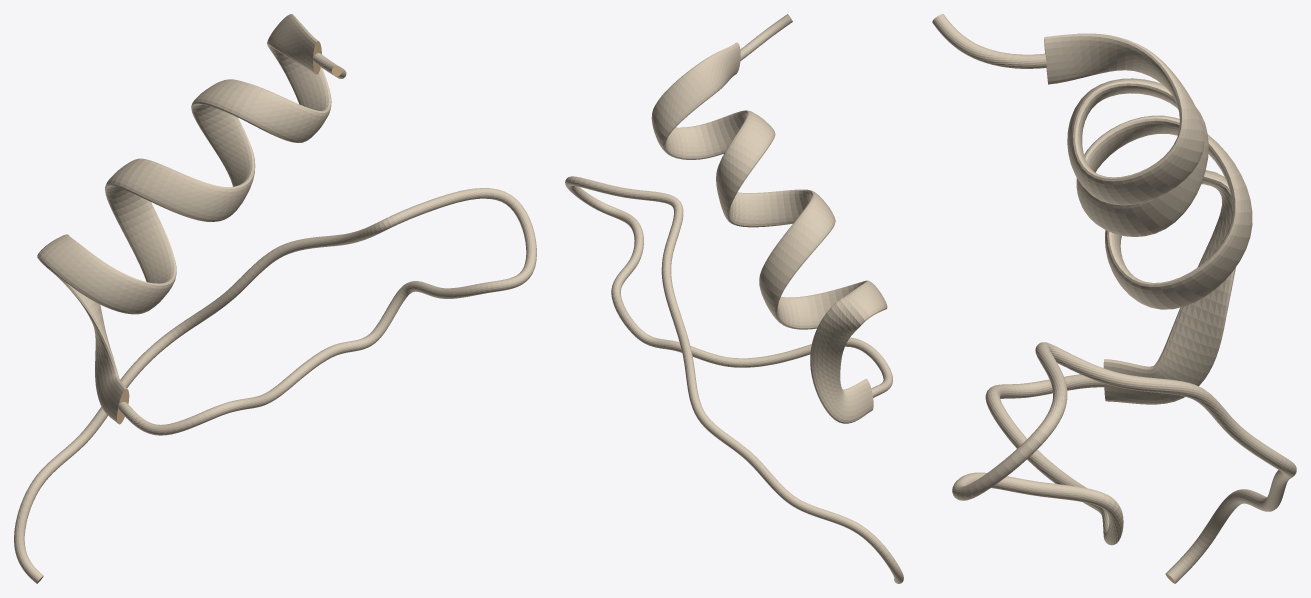
The model's file is rCoilfCoilSheet.dae.
3 views of the same model, side by side, from view 1: azimuth 30°, elevation 25°; view 2: azimuth 150°, elevation 25°; view 3: azimuth 270°, elevation 25° (orthographic). The views are drawn at different scales.
Parts seen in each view (by area): view 1: Shape_IndexedTriangleStripSet_035; view 2: Shape_IndexedTriangleStripSet_035; view 3: Shape_IndexedTriangleStripSet_035.
Part boxes in pixels (x1,y1,x2,y2): Shape_IndexedTriangleStripSet_035: [14, 14, 536, 583]; Shape_IndexedTriangleStripSet_035: [565, 14, 903, 583]; Shape_IndexedTriangleStripSet_035: [932, 14, 1296, 583].
Size of the model in its own units: 23.71 by 12.6 by 27.01.
